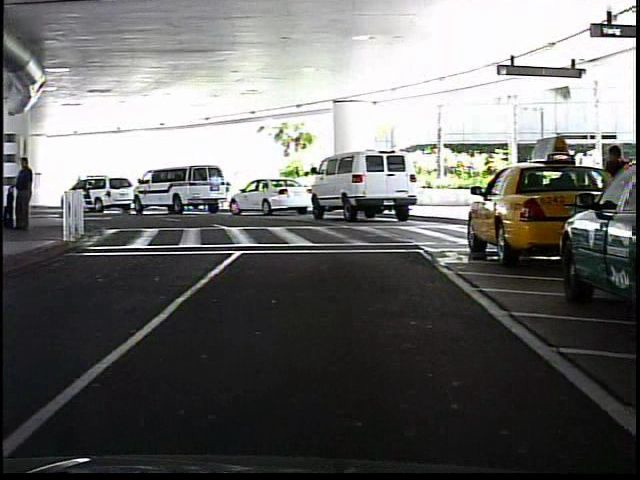person: (601, 141, 635, 252), (18, 152, 37, 233)
